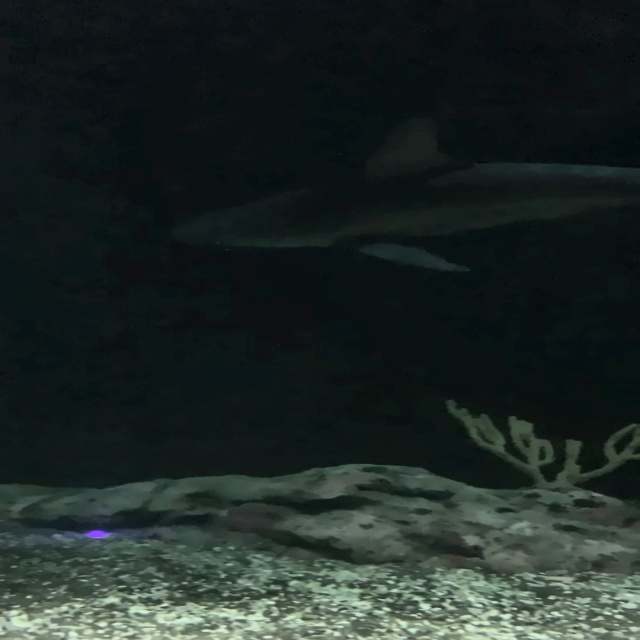shark: (168, 113, 639, 272)
